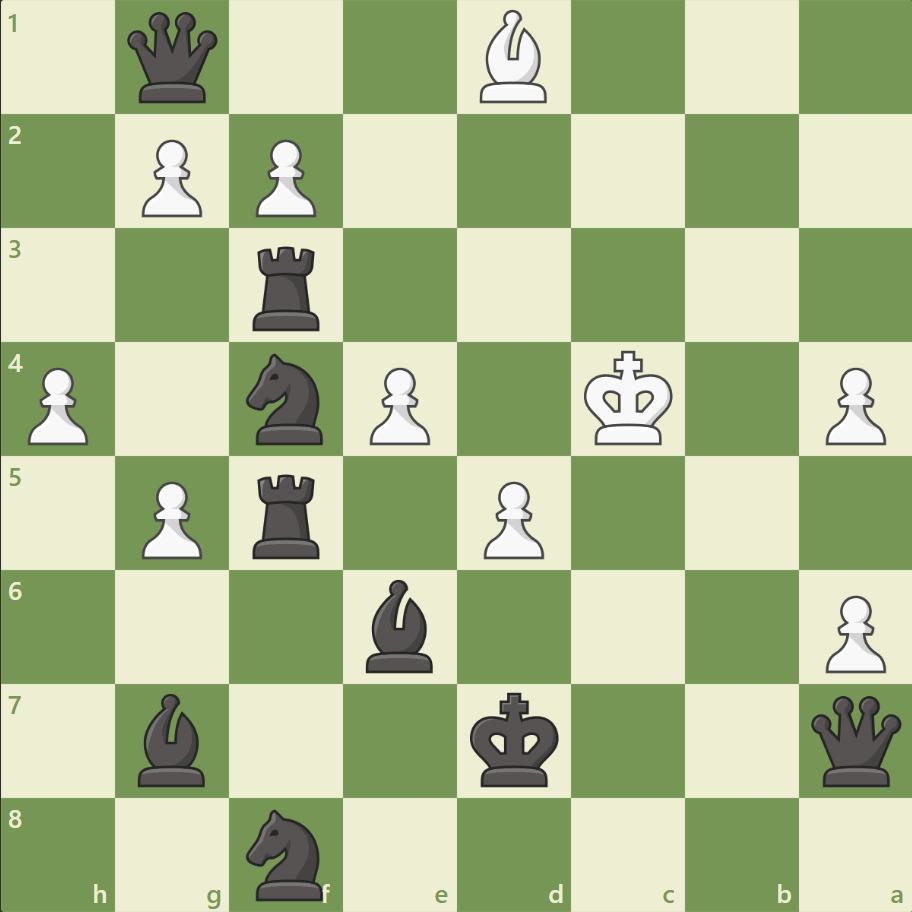B: (471, 6, 555, 109)
K: (579, 344, 679, 452)
P: (474, 473, 549, 564), (133, 473, 208, 564), (20, 359, 95, 450), (247, 132, 322, 223), (133, 132, 208, 223), (815, 586, 889, 677), (815, 359, 889, 450), (361, 359, 435, 450)
b: (131, 687, 215, 790), (358, 574, 442, 676)
k: (465, 685, 565, 793)
n: (238, 802, 335, 904), (238, 348, 335, 450)
q: (805, 690, 904, 789), (124, 9, 223, 108)
r: (246, 466, 329, 563), (246, 239, 329, 336)
